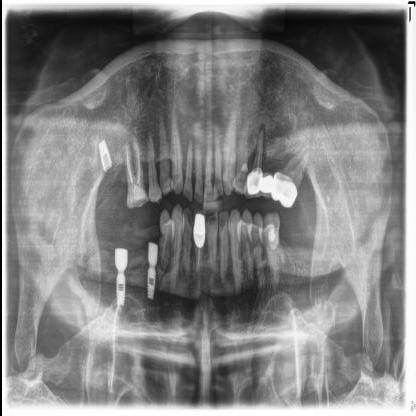Bicon: (113, 268, 126, 310), (144, 258, 156, 302), (96, 139, 110, 175)
